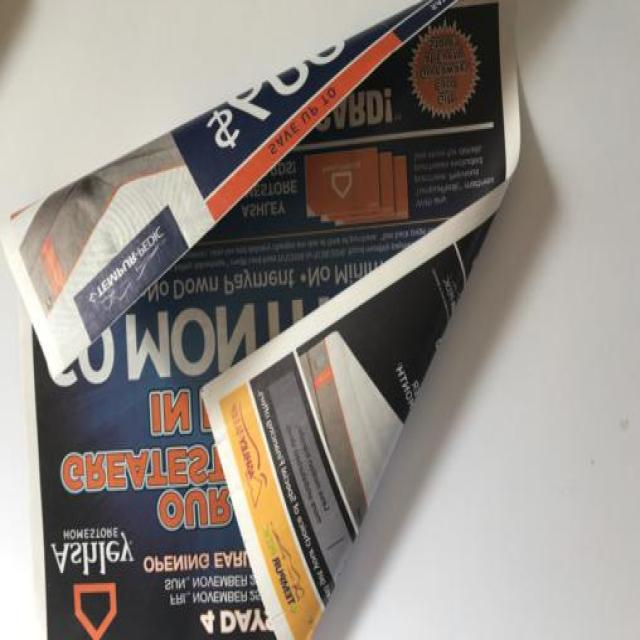kertas: (0, 0, 521, 640)
